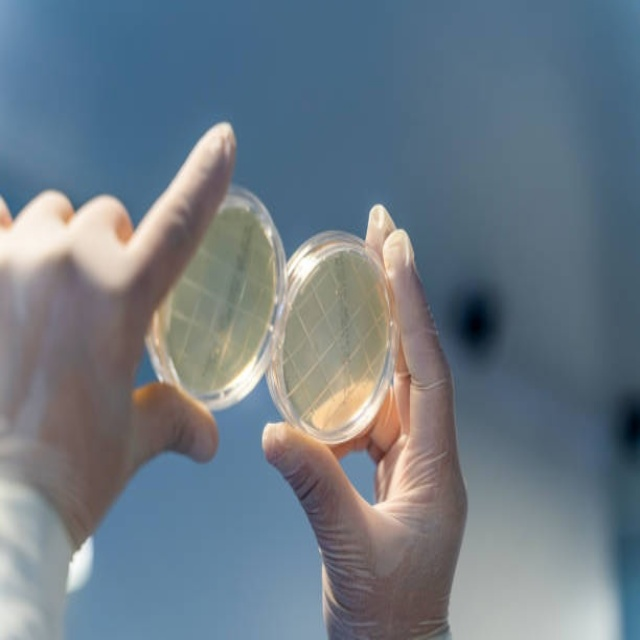Sin_guantes: (0, 116, 240, 550), (262, 200, 469, 639)
